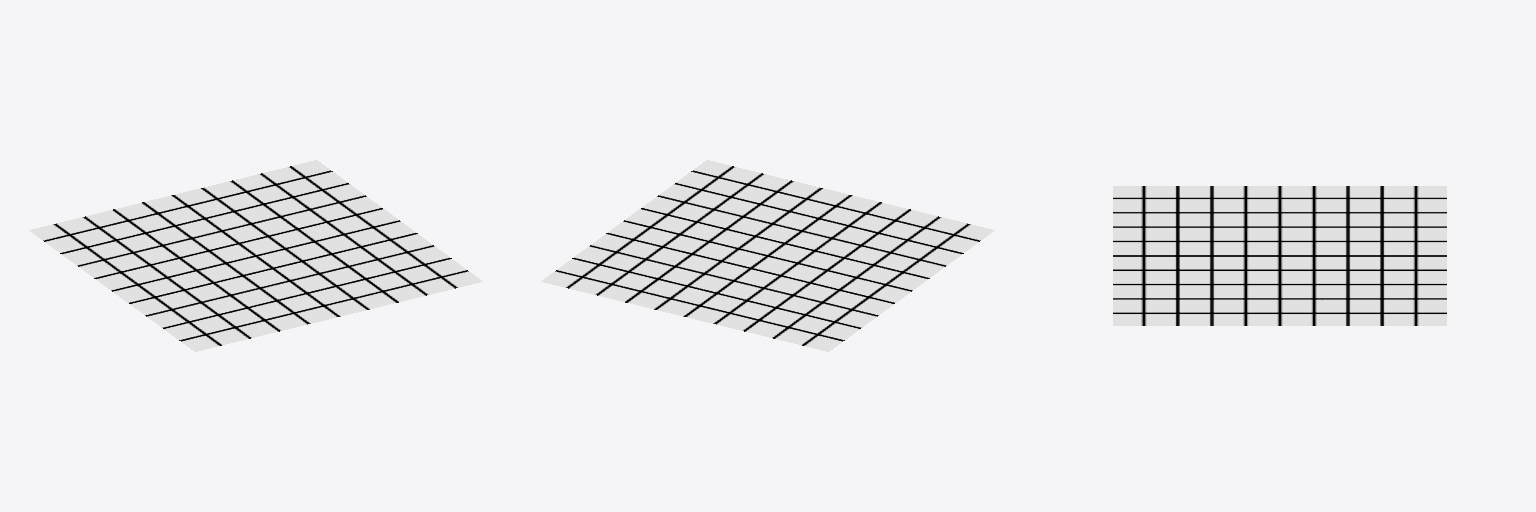
The picture shows the model from 3 angles: view 1: azimuth 30°, elevation 25°; view 2: azimuth 150°, elevation 25°; view 3: azimuth 270°, elevation 25°; orthographic projection.
Visible parts, largest first — view 1: Plane007; view 2: Plane007; view 3: Plane007.
Part boxes in pixels (left/top/right/bottom): Plane007: left=29, top=160, right=482, bottom=351; Plane007: left=541, top=160, right=994, bottom=351; Plane007: left=1113, top=186, right=1446, bottom=325.
Size of the model in its own units: 20 by 0 by 20.
Materials: 1 (1 with a texture image).